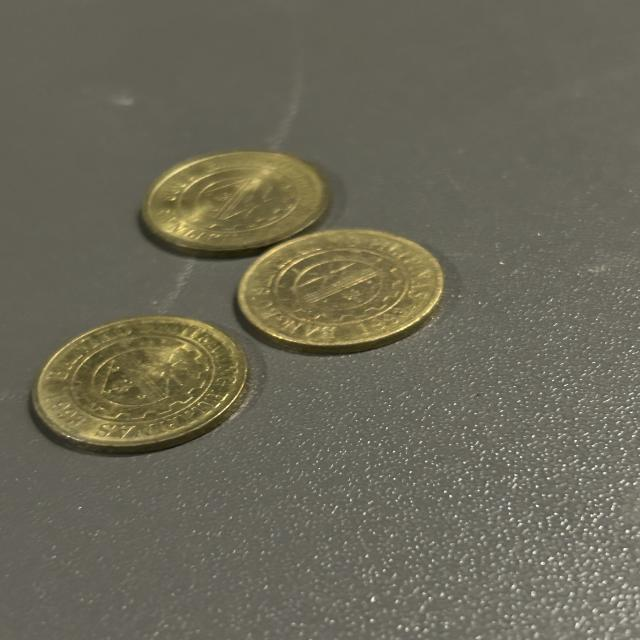25Cent_Old_Back: (27, 317, 251, 452)
